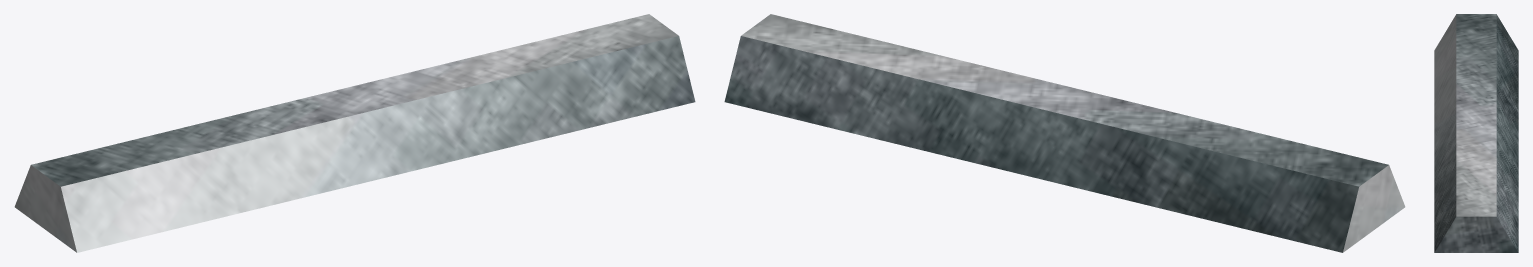
File: light.fbx
The picture shows the model from 3 angles, left to right: view 1: azimuth 30°, elevation 25°; view 2: azimuth 150°, elevation 25°; view 3: azimuth 270°, elevation 25°; orthographic projection. The views are drawn at different scales.
Parts seen in each view (by area): view 1: pCube1; view 2: pCube1; view 3: pCube1.
Boxes of the visible parts, <box> form: pCube1: <box>14,14,695,252</box>; pCube1: <box>724,14,1405,252</box>; pCube1: <box>1434,14,1518,252</box>.
Size of the model in its own units: 11.93 by 1 by 2.09.
